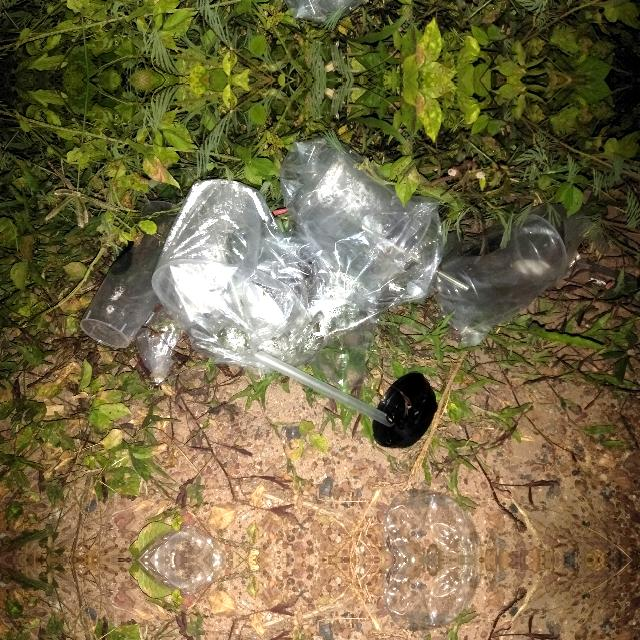Plastic: (152, 127, 470, 383), (242, 348, 438, 444), (72, 197, 188, 353), (430, 216, 566, 320), (371, 482, 493, 560), (371, 560, 493, 638), (128, 524, 225, 560), (128, 560, 225, 596)
